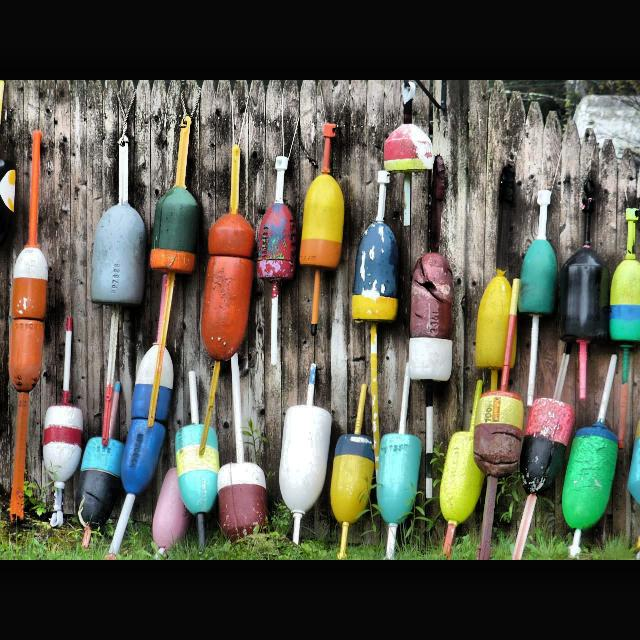buoy: (10, 127, 48, 536), (87, 135, 149, 373), (152, 112, 202, 384), (40, 316, 84, 532), (198, 202, 256, 364), (70, 382, 126, 546), (122, 336, 172, 502), (276, 399, 334, 537), (561, 418, 621, 538), (175, 388, 221, 544), (406, 247, 456, 389), (213, 438, 271, 546), (520, 392, 576, 500), (348, 218, 402, 330), (295, 170, 349, 278), (556, 245, 612, 349), (436, 424, 489, 532), (472, 381, 524, 487), (469, 272, 521, 374), (328, 428, 378, 534), (375, 428, 425, 534), (378, 120, 438, 184), (256, 202, 298, 288), (152, 465, 194, 551), (518, 238, 560, 322), (608, 257, 640, 349)
